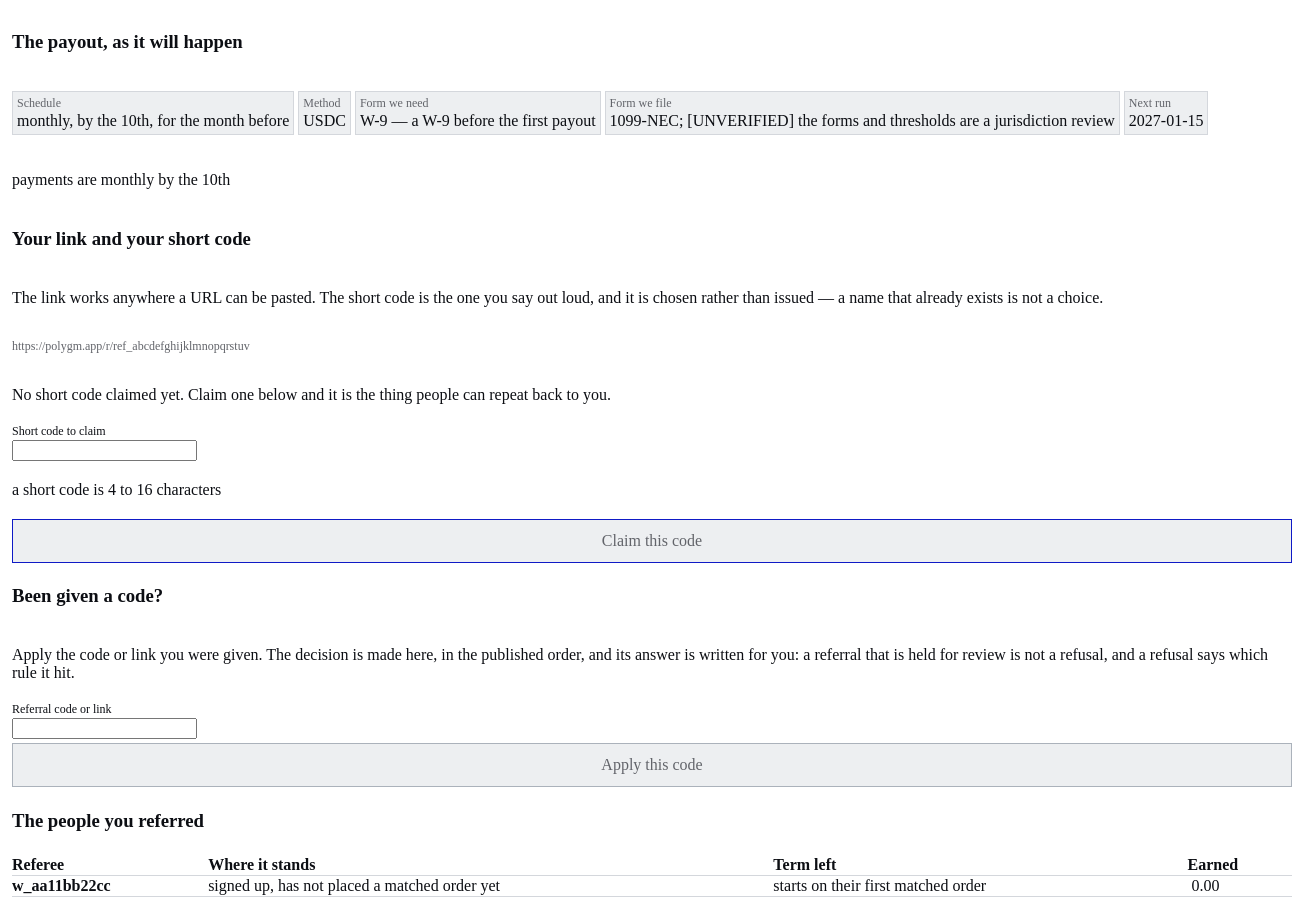
Scenario: the referral dashboard › claims a code through the client and re-reads rather than assuming the write landed
This screenshot has width=1304, height=900.
(page scrolled)
Type "polymarketmike" into the field labelled "Short code to claim" at (104,450), box [12,440,197,461]
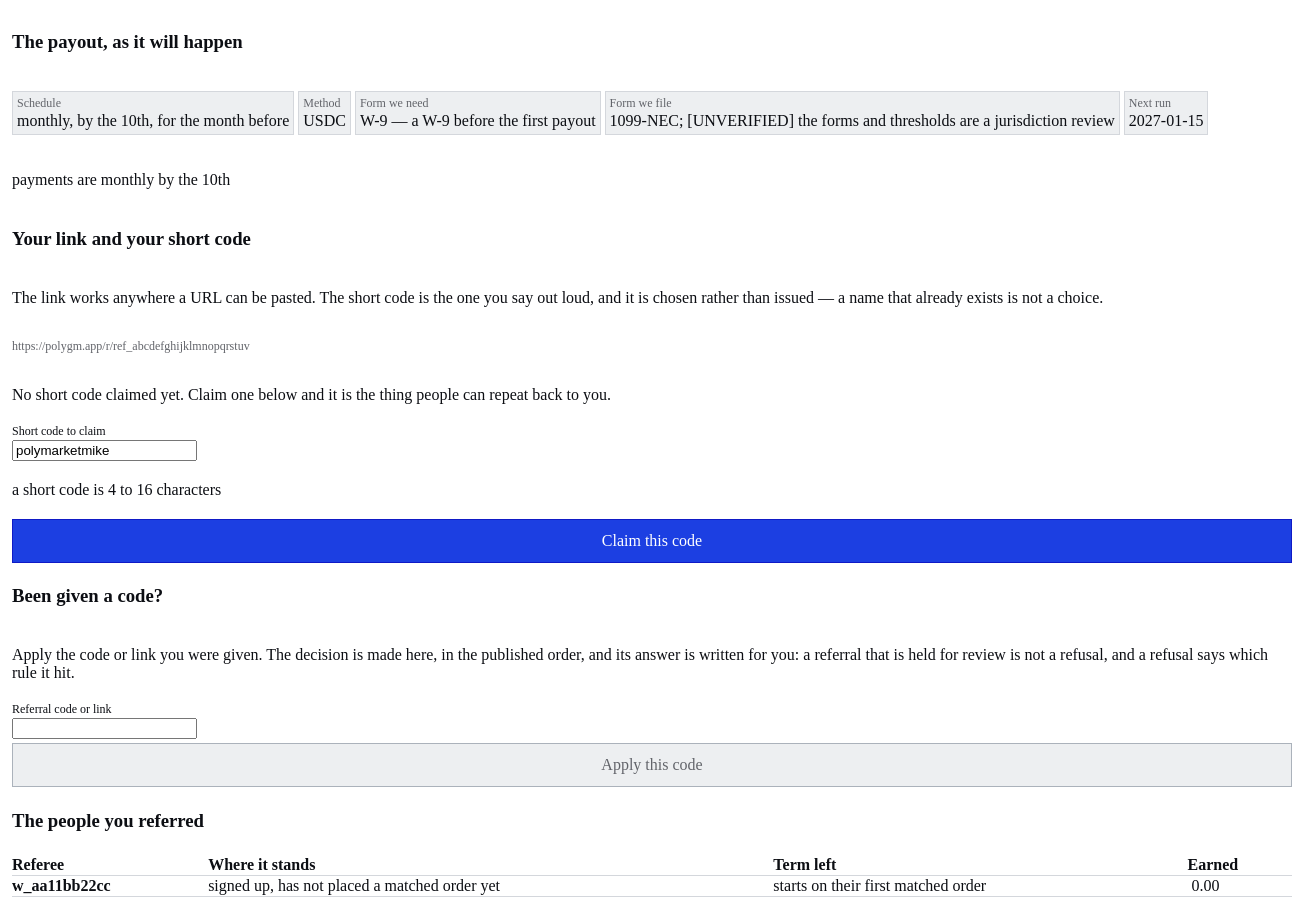
Click the button "Claim this code" at (652,541), box [12,519,1292,563]
(page scrolled)
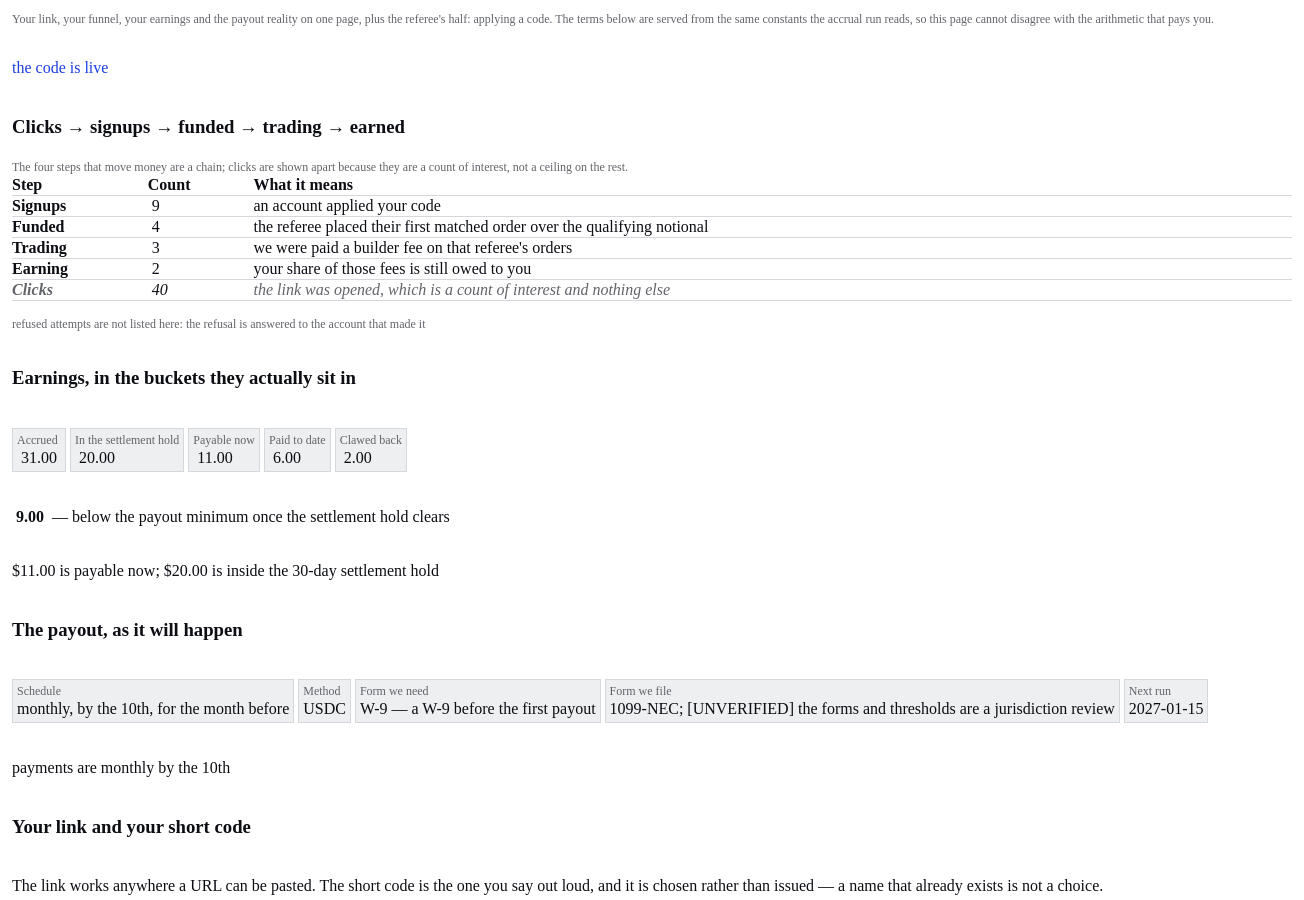
Now the text "the code is live" is shown, box [12,59,108,76]
